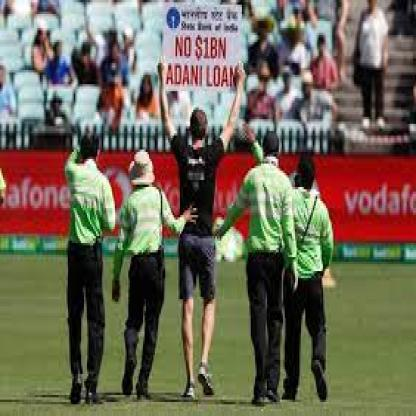BANNER: (159, 0, 242, 138)
